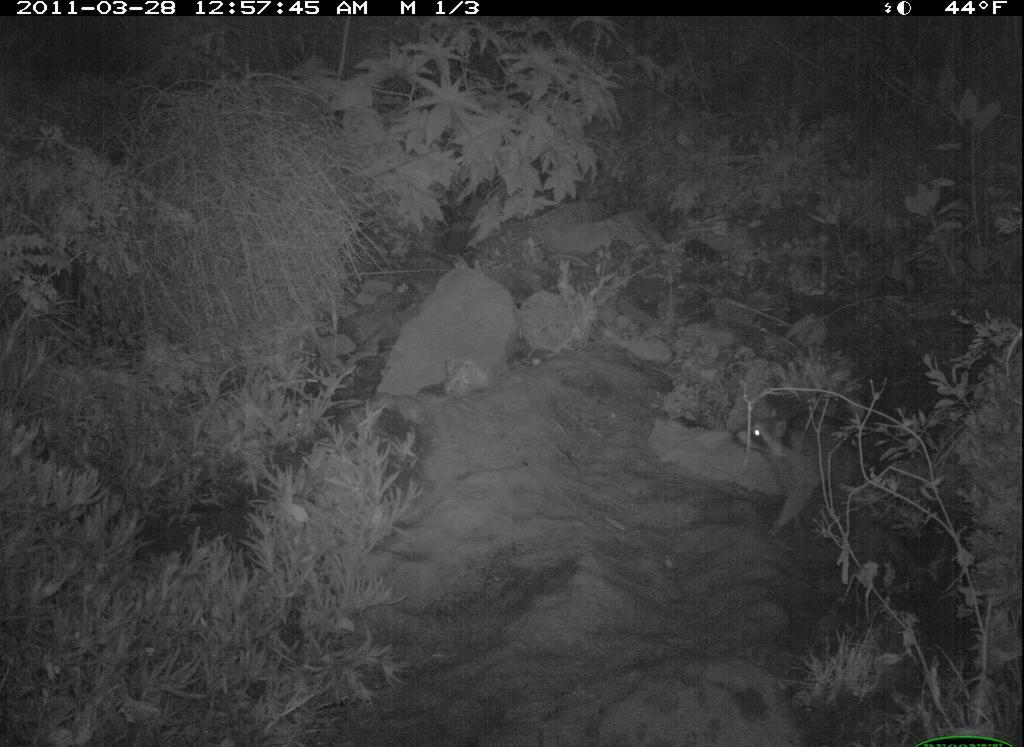raccoon: (717, 402, 897, 548)
